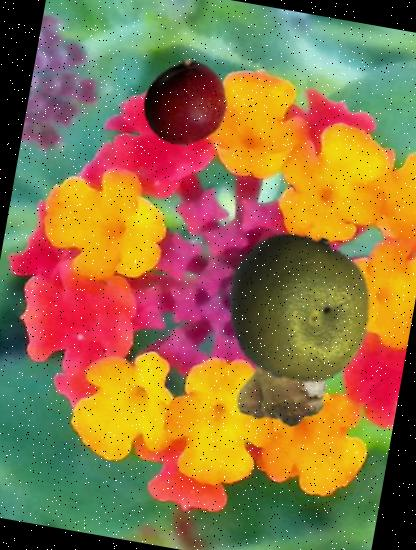Ginger: (219, 319, 337, 437)
Nectarine: (134, 52, 234, 153)
Pomelo: (212, 221, 384, 394)
